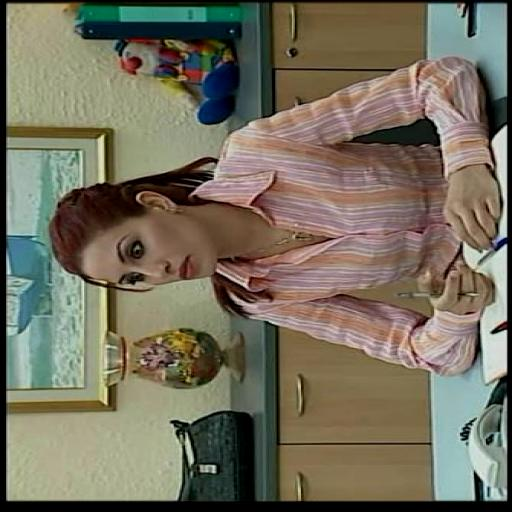Dalanda: (49, 191, 215, 286)
